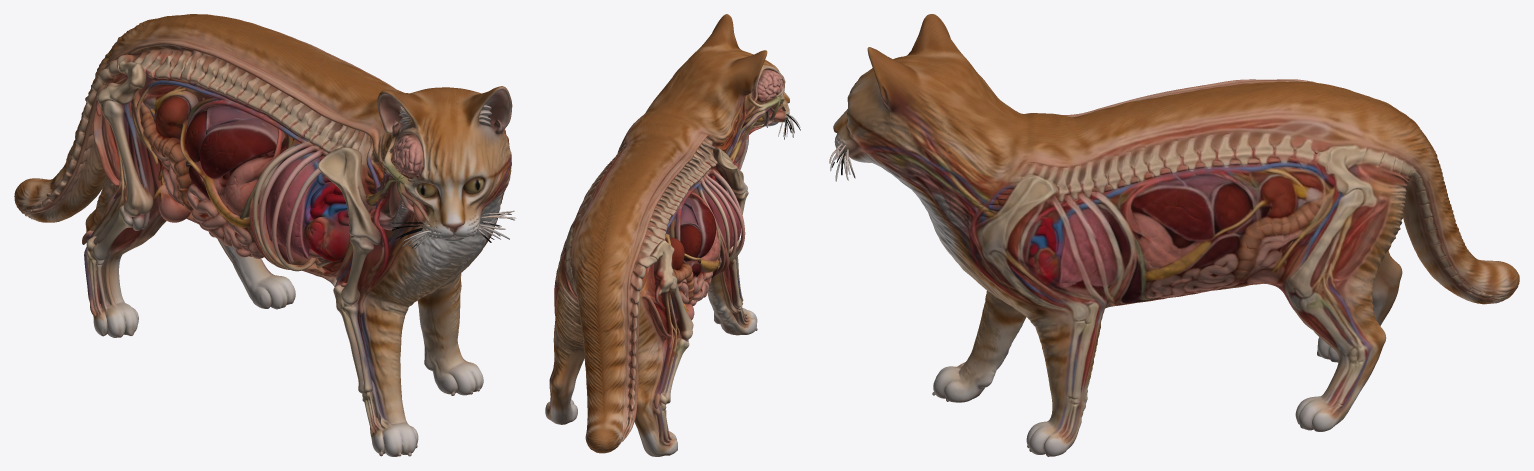
File: anatomia-animal-3d.glb
3 renders of one model, left to right at view 1: azimuth 30°, elevation 25°; view 2: azimuth 150°, elevation 25°; view 3: azimuth 270°, elevation 25°, orthographic. The views are drawn at different scales.
Visible parts, largest first — view 1: geometry_0; view 2: geometry_0; view 3: geometry_0.
Boxes of the visible parts, x1,y1,x2,y2 form: geometry_0: [14, 14, 516, 456]; geometry_0: [545, 14, 800, 456]; geometry_0: [829, 14, 1519, 456].
Bounding box in the file's own units: 0.3958 × 0.607 × 1.
1 material, 1 textured.
